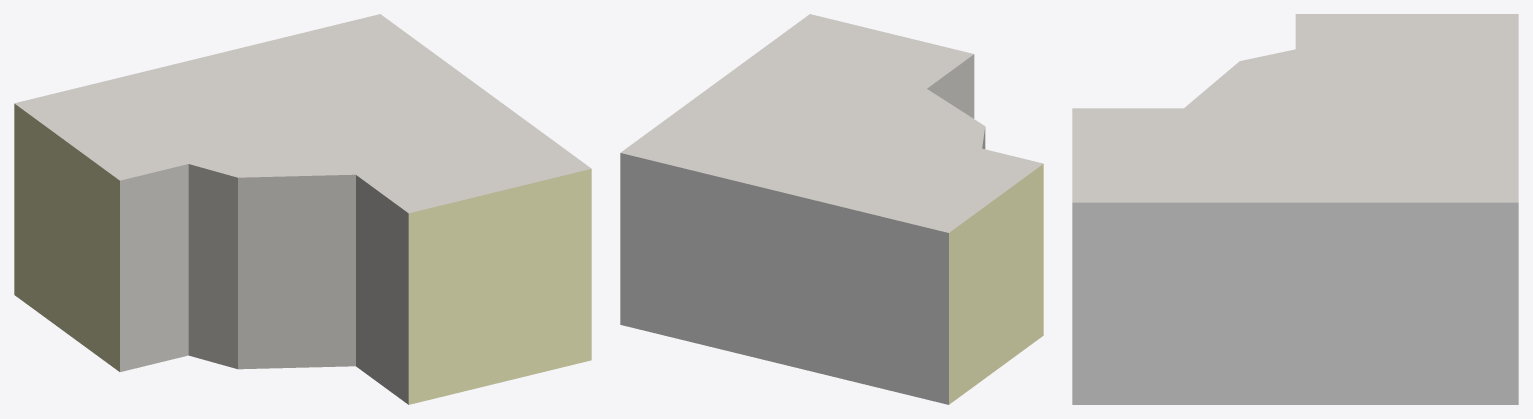
The model's file is Cracked_Curve_Inner_2x2_1_Mid.glb.
3 views of the same model, side by side, from view 1: azimuth 30°, elevation 25°; view 2: azimuth 150°, elevation 25°; view 3: azimuth 270°, elevation 25° (orthographic). The views are drawn at different scales.
Parts seen in each view (by area): view 1: Cracked_Curve_Inner_2x2_1_Mid; view 2: Cracked_Curve_Inner_2x2_1_Mid; view 3: Cracked_Curve_Inner_2x2_1_Mid.
Part boxes in pixels (bbox=[...]): Cracked_Curve_Inner_2x2_1_Mid: bbox=[14, 14, 591, 404]; Cracked_Curve_Inner_2x2_1_Mid: bbox=[620, 14, 1043, 404]; Cracked_Curve_Inner_2x2_1_Mid: bbox=[1072, 14, 1518, 404].
Size of the model in its own units: 200 by 100 by 200.
